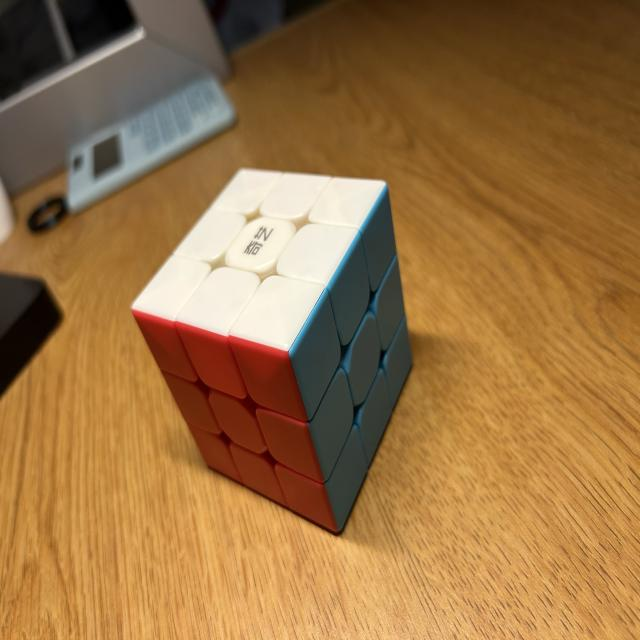Rubiks Cube: (129, 168, 412, 532)
